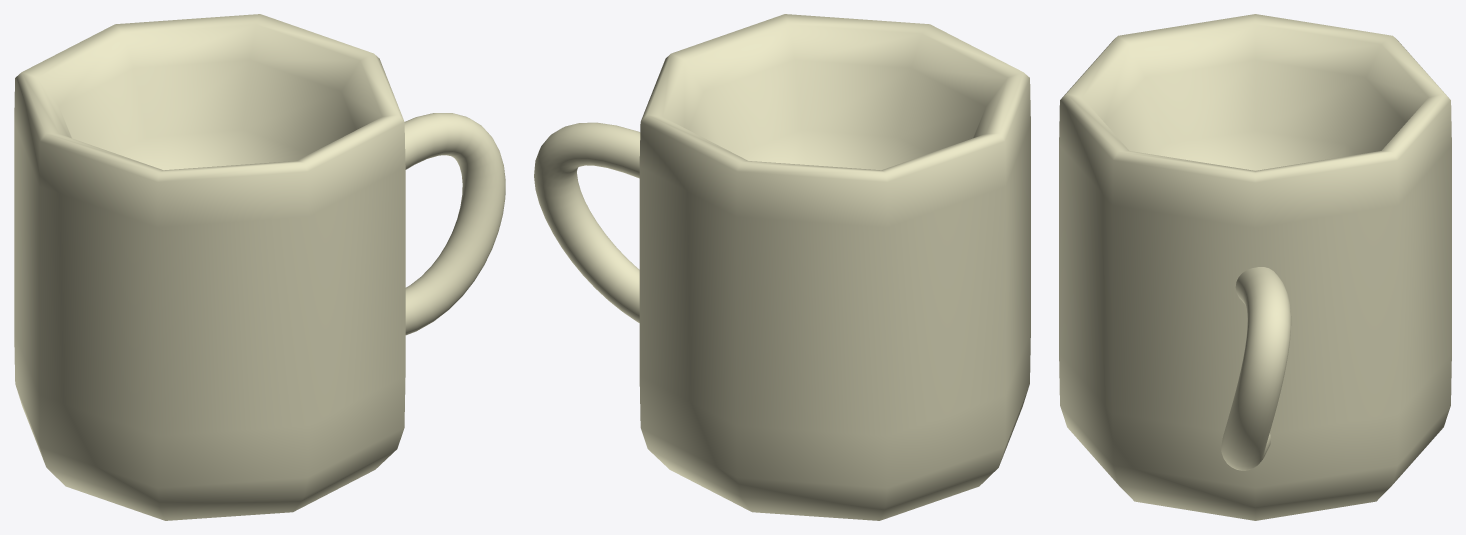
The model's file is Asset_cup.fbx.
The picture shows the model from 3 angles, left to right: view 1: azimuth 30°, elevation 25°; view 2: azimuth 150°, elevation 25°; view 3: azimuth 270°, elevation 25°; orthographic projection.
Visible parts, largest first — view 1: Cube.030; view 2: Cube.030; view 3: Cube.030.
Boxes of the visible parts, bbox=[...] form: Cube.030: bbox=[14, 14, 505, 520]; Cube.030: bbox=[534, 14, 1030, 520]; Cube.030: bbox=[1059, 14, 1451, 520].
Size of the model in its own units: 9.27 by 7.33 by 6.79.
